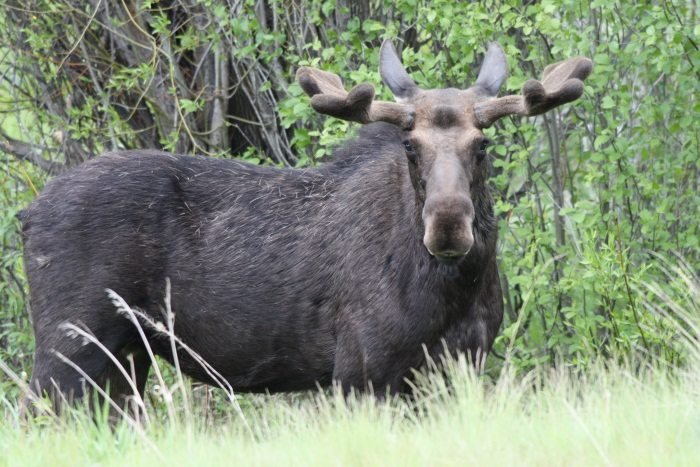moose: (14, 30, 595, 420)
